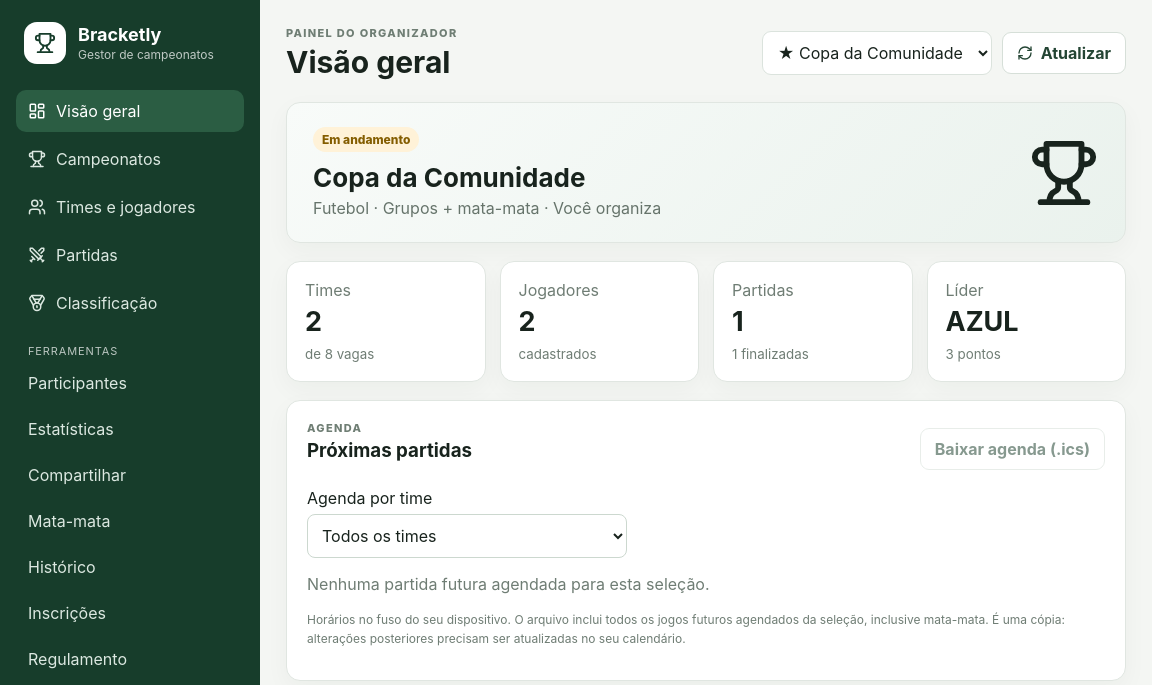
Test: busca jogadores por joao
The image size is (1152, 685).
Expected: the heading "Copa da Comunidade" is shown, [313,162,585,193]
Click the button "Times e jogadores" at [130, 207], box [16,186,244,228]
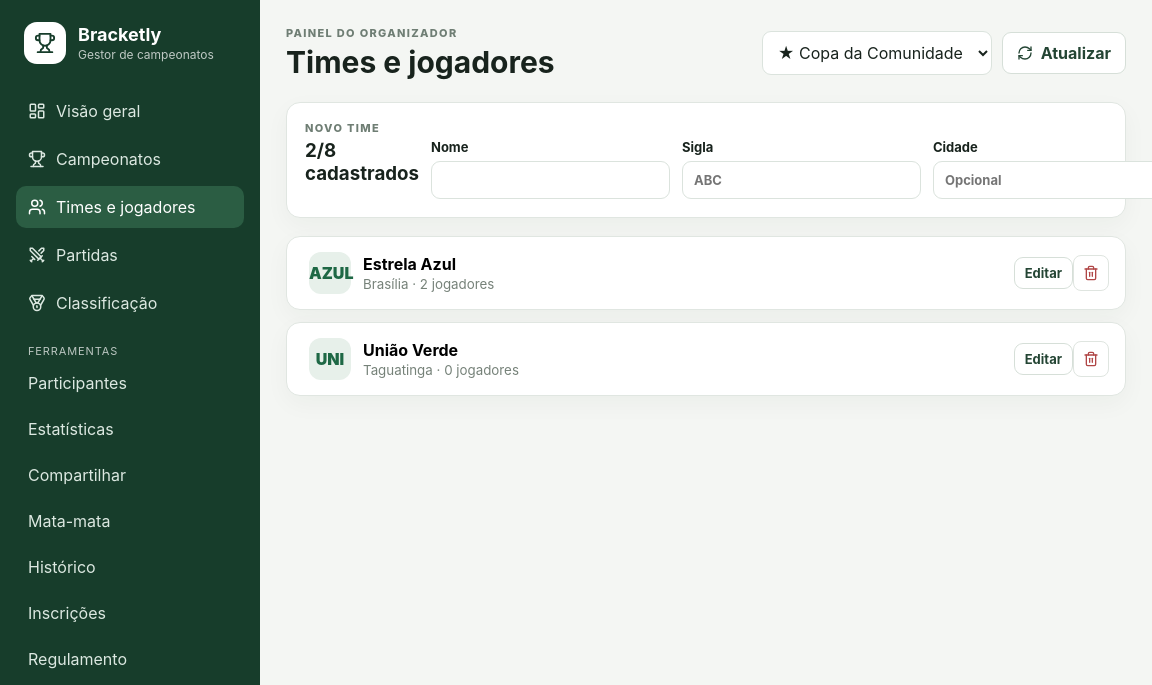
Click the button "AZUL Estrela Azul Brasília · 2 jogadores" at [330, 273], box [303,251,1014,295]
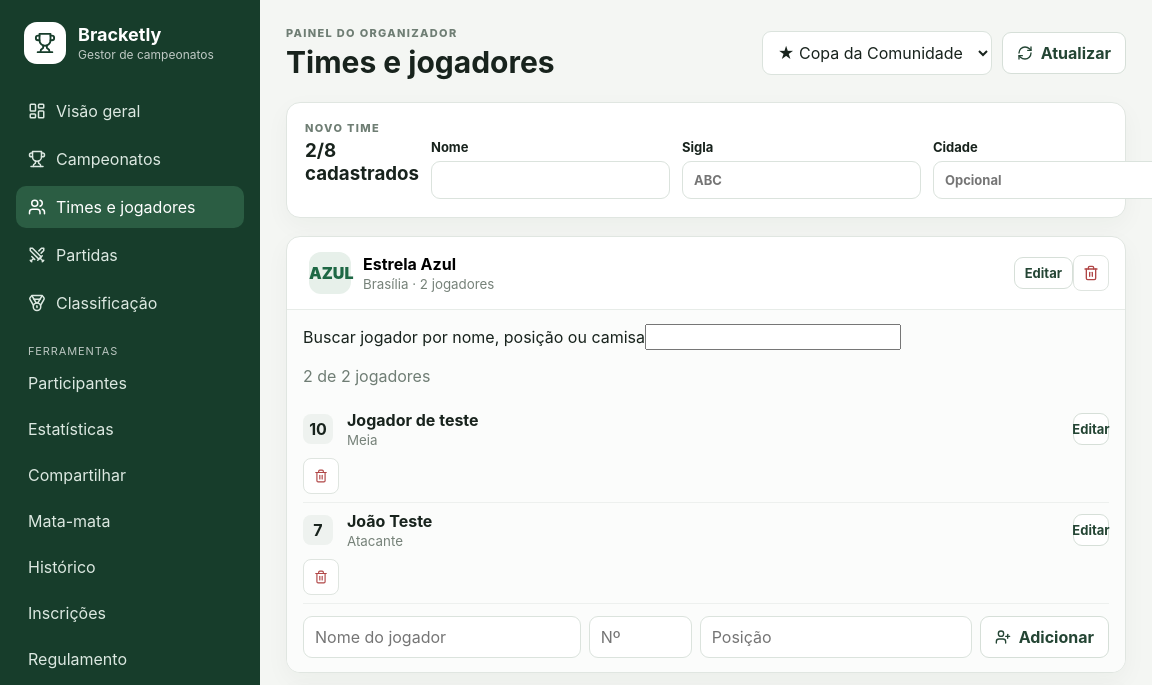
Type "joao" into the search field at [773, 337], box [645,324,901,350]
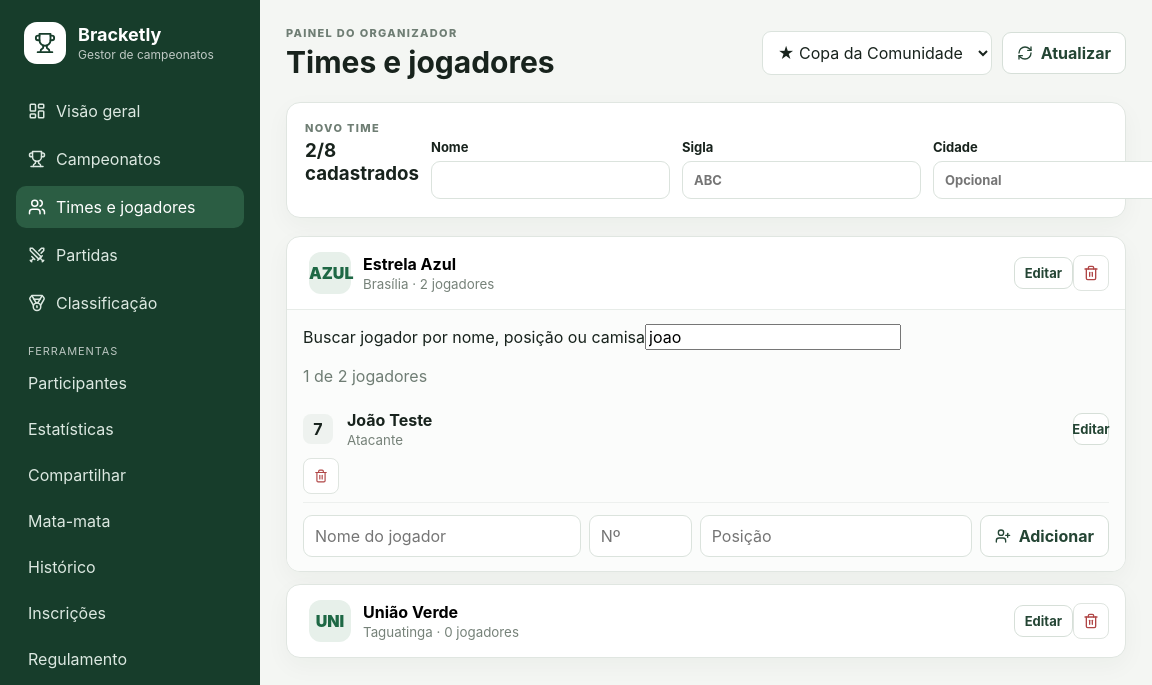
Now the text "João Teste" is shown, box [347,410,432,430]
Now the text "Jogador de teste" is gone
Now the message reads "1 de 2 jogadores", box [303,366,427,386]
